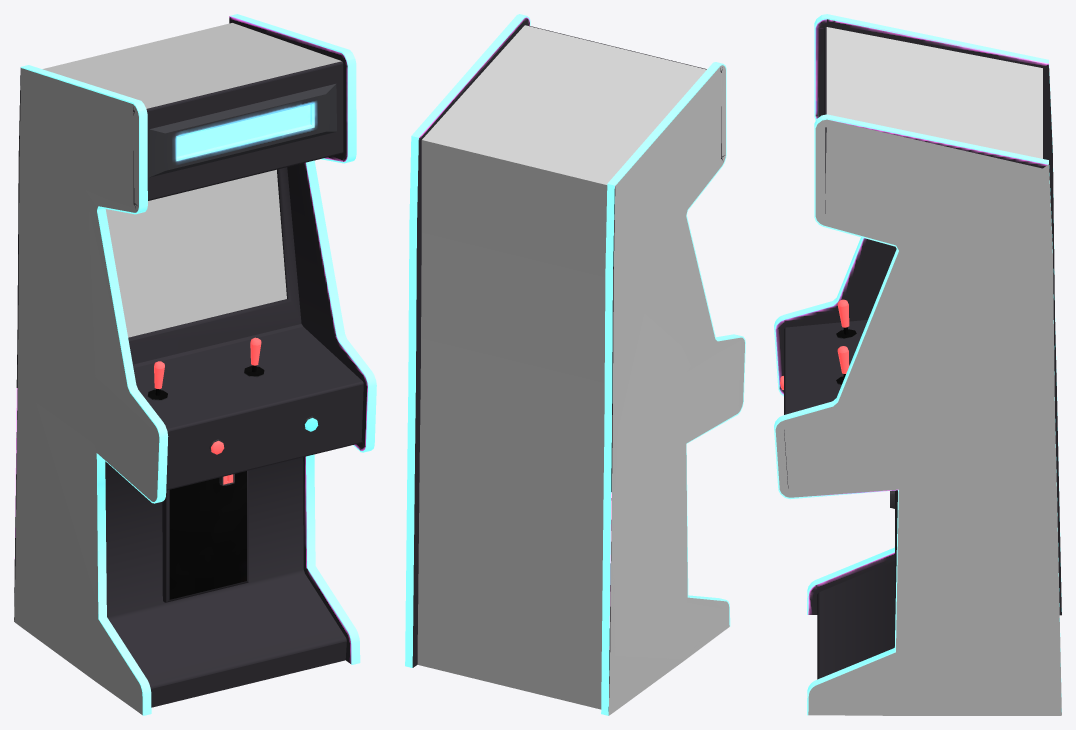
File: arcademachine.fbx
3 renders of one model, left to right at view 1: azimuth 30°, elevation 25°; view 2: azimuth 150°, elevation 25°; view 3: azimuth 270°, elevation 25°, orthographic. The views are drawn at different scales.
Visible parts, largest first — view 1: pasted__polySurface158.001; view 2: pasted__polySurface158.001; view 3: pasted__polySurface158.001.
Part boxes in pixels (left/top/right/bottom): pasted__polySurface158.001: left=14, top=14, right=376, bottom=715; pasted__polySurface158.001: left=405, top=14, right=745, bottom=715; pasted__polySurface158.001: left=774, top=14, right=1061, bottom=715.
Size of the model in its own units: 11222 by 30000 by 13092.
3 materials, 1 textured.
